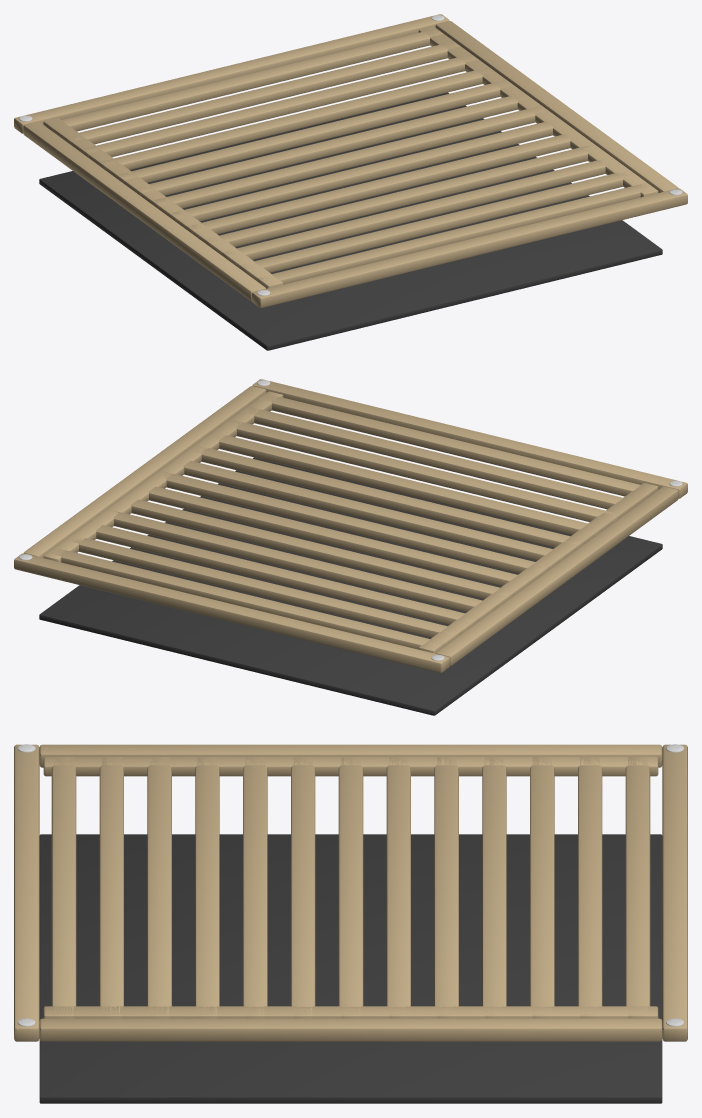
File: Kit_MainDrainGrate.fbx
3 views of the same model, one above another, from view 1: azimuth 30°, elevation 25°; view 2: azimuth 150°, elevation 25°; view 3: azimuth 270°, elevation 25° (orthographic). The views are drawn at different scales.
Visible parts, largest first — view 1: Kit_MainDrainGrate_LOD0; view 2: Kit_MainDrainGrate_LOD0; view 3: Kit_MainDrainGrate_LOD0.
Part boxes in pixels (<box>): Kit_MainDrainGrate_LOD0: <box>14,14,687,350</box>; Kit_MainDrainGrate_LOD0: <box>14,379,687,715</box>; Kit_MainDrainGrate_LOD0: <box>14,744,687,1103</box>.
Size of what is drawn, in the model's own units: 0.33 by 0.0478 by 0.33.
